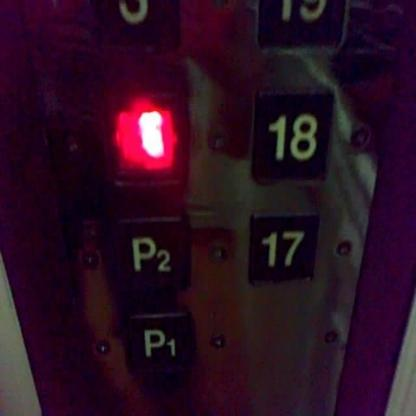17: (243, 211, 323, 287)
18: (247, 83, 334, 183)
P1: (121, 310, 196, 382)
P2: (113, 215, 193, 298)
